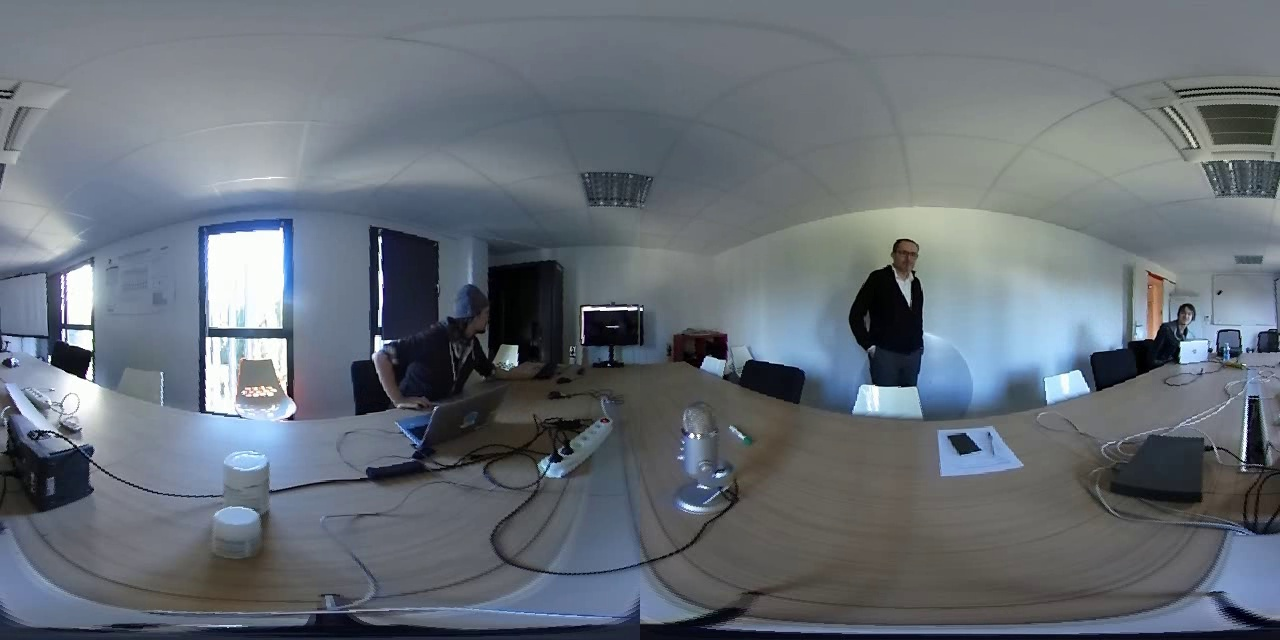person: (376, 277, 531, 401), (844, 237, 928, 400), (1161, 298, 1211, 341)
